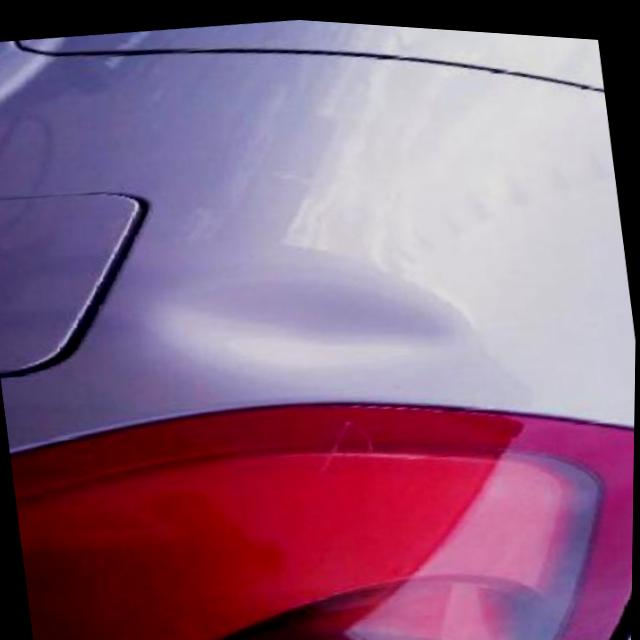Dent: (155, 244, 469, 391)
